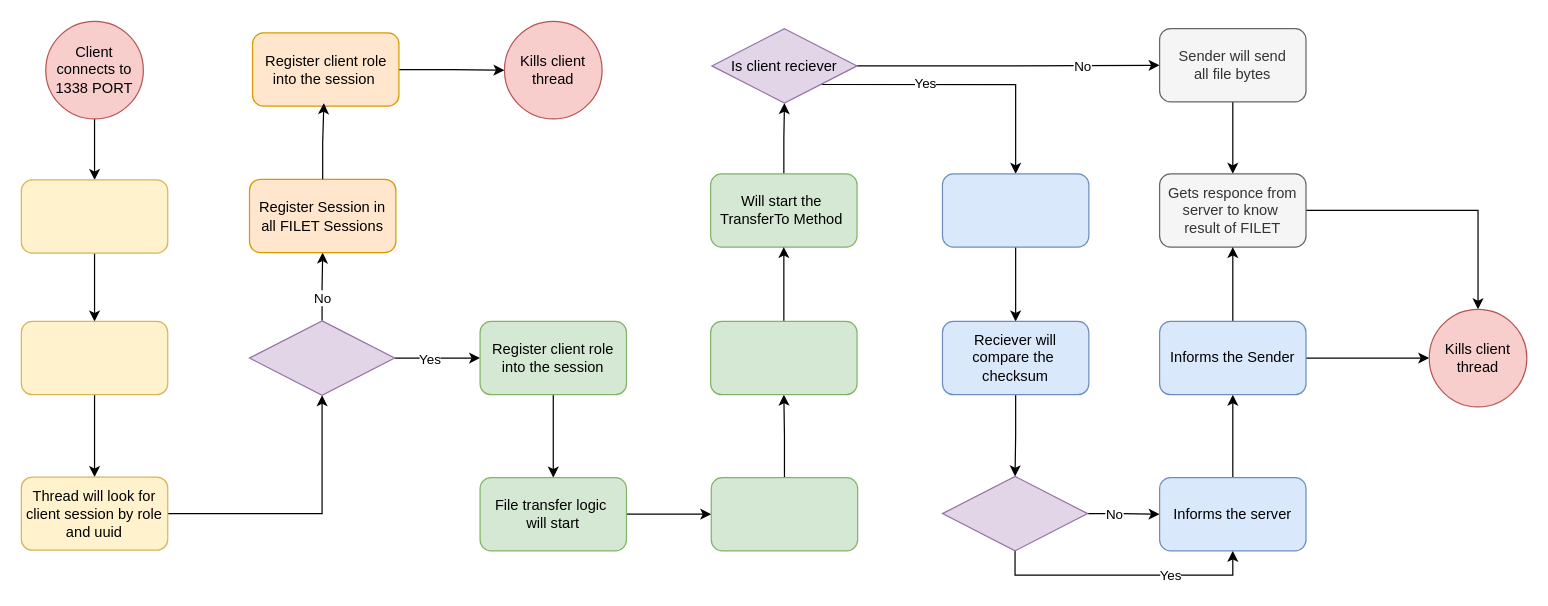
This 1548x606 diagram has some shape labels left out. Each missing label, with the box of its shape:
A new thread is created: (20, 179, 168, 253)
Checksum passes: (941, 475, 1088, 551)
Client will send bytes uuid/role/file: (20, 320, 168, 395)
Reciever will get all file bytes: (941, 173, 1089, 247)
Session found?: (248, 320, 395, 395)
Theard will get sender and recieber out and in: (709, 320, 857, 395)
Thread will look for the "session" details: (710, 476, 858, 551)
